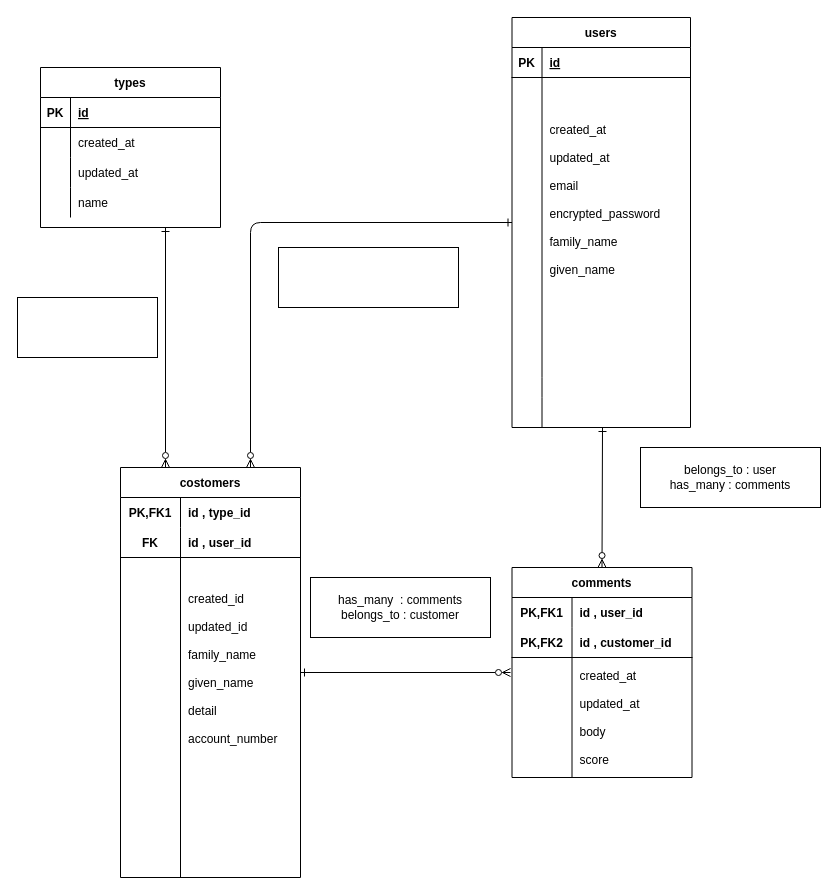
Some shapes in this 838 by 895 pixel diagram are drawn without their labels. The centre of each missing label's shape, as x and y in pixels:
"has_many : customers belongs_to : type" belongs at [87,327].
"has_many : customers belongs_to : user" belongs at [368,277].
